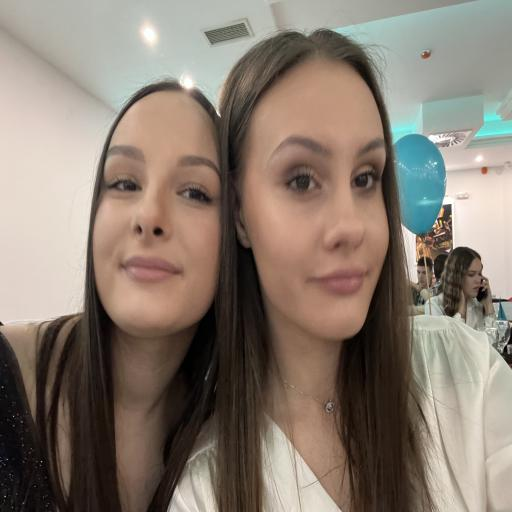marija: (85, 88, 229, 334)
